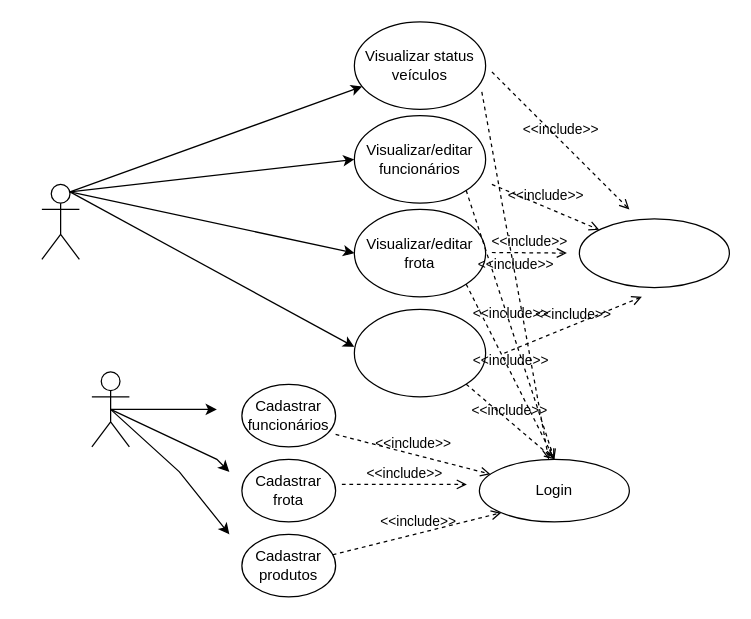
Some shapes in this 751 by 619 pixel diagram are drawn without their labels. Each missing label, with the centre of its shape:
"Administrador" goes at point 110,409.
"Alertar mudanças críticas" goes at point 653,253.
"Funcionário" goes at point 60,221.
"Visualizar/editar produtos" goes at point 419,352.
